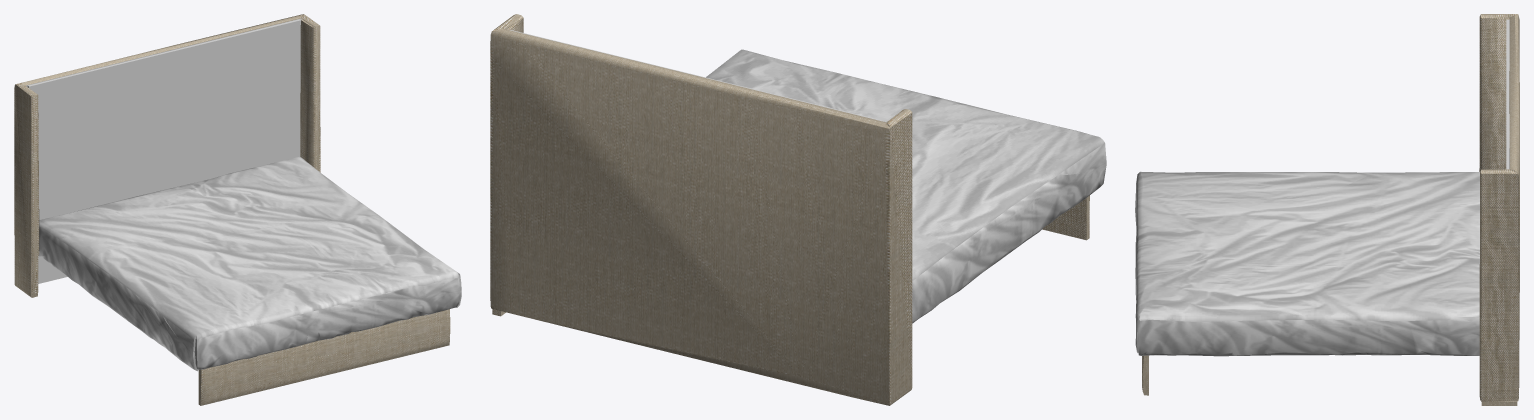
Rendered from bed.FBX.
3 renders of one model, left to right at view 1: azimuth 30°, elevation 25°; view 2: azimuth 150°, elevation 25°; view 3: azimuth 270°, elevation 25°, orthographic. The views are drawn at different scales.
Visible parts, largest first — view 1: bed; view 2: bed; view 3: bed.
Boxes of the visible parts, x1,y1,x2,y2 form: bed: [14, 14, 461, 405]; bed: [490, 14, 1106, 405]; bed: [1135, 14, 1519, 405].
Bounding box in the file's own units: 212 × 144 × 215.
Materials: 3 (2 with a texture image).
